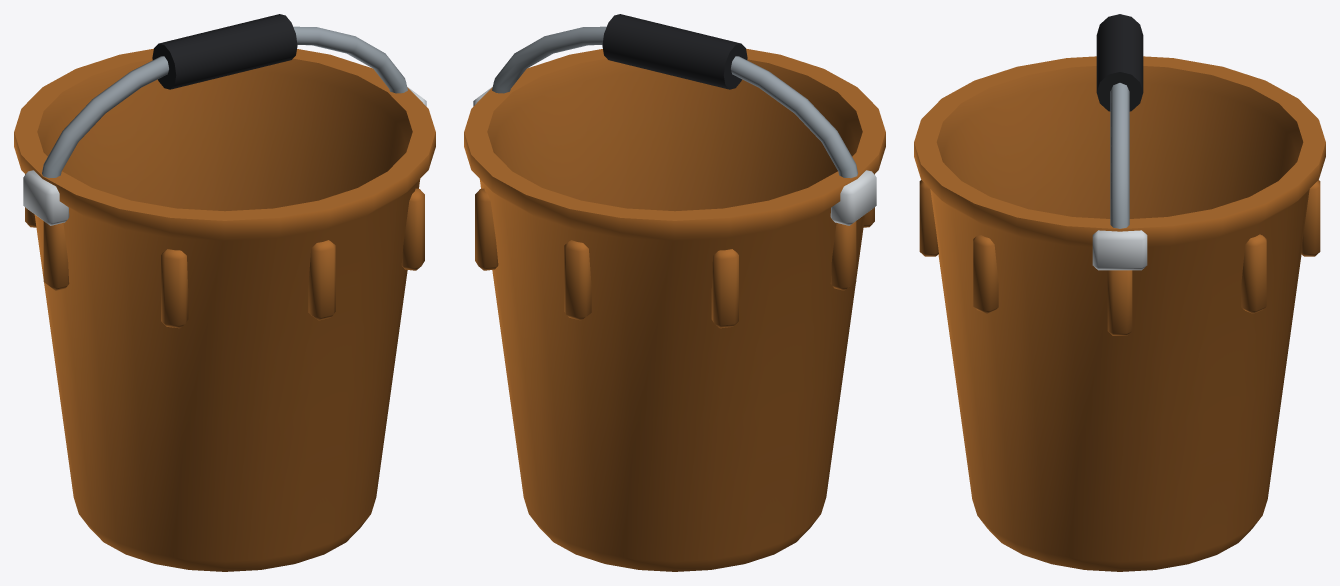
Rendered from SM_Bucket_01.glb.
3 views of the same model, side by side, from view 1: azimuth 30°, elevation 25°; view 2: azimuth 150°, elevation 25°; view 3: azimuth 270°, elevation 25° (orthographic). The views are drawn at different scales.
Visible parts, largest first — view 1: SM_Bucket_01; view 2: SM_Bucket_01; view 3: SM_Bucket_01.
Boxes of the visible parts, x1,y1,x2,y2 form: SM_Bucket_01: [14, 14, 435, 571]; SM_Bucket_01: [464, 14, 885, 571]; SM_Bucket_01: [914, 14, 1325, 571].
Size of the model in its own units: 0.314 by 0.38 by 0.301.
1 material, 1 textured.
